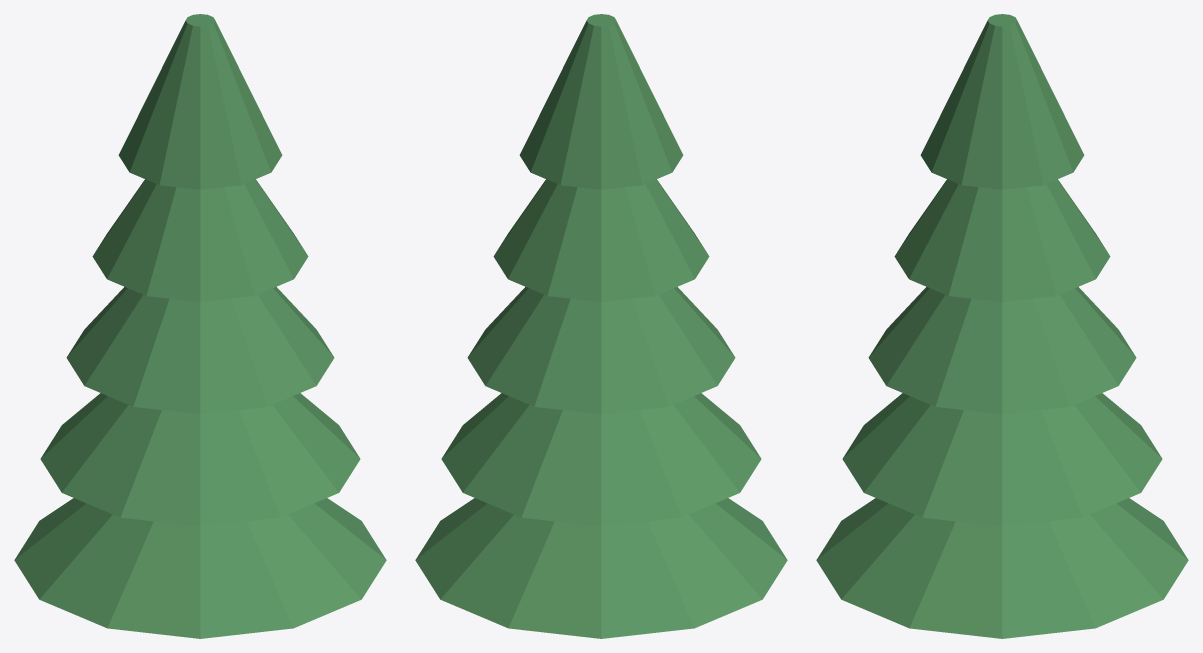
Rendered from tree_conifer.glb.
3 renders of one model, left to right at view 1: azimuth 30°, elevation 25°; view 2: azimuth 150°, elevation 25°; view 3: azimuth 270°, elevation 25°, orthographic.
Visible parts, largest first — view 1: Tree_Conifer; view 2: Tree_Conifer; view 3: Tree_Conifer.
Boxes of the visible parts, x1,y1,x2,y2 form: Tree_Conifer: (14, 14, 386, 638); Tree_Conifer: (415, 14, 787, 638); Tree_Conifer: (816, 14, 1188, 638).
Size of the model in its own units: 5 by 9 by 5.
